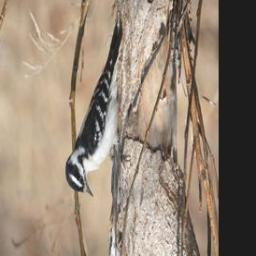Woodpecker: (64, 15, 131, 198)
